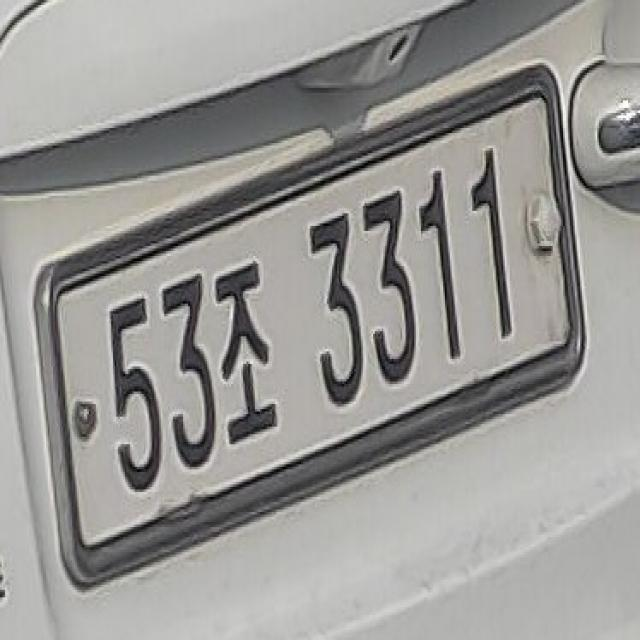1: (467, 126, 529, 352), (418, 153, 467, 369)
3: (308, 183, 366, 409), (361, 171, 416, 394), (161, 258, 214, 482)
5: (99, 263, 168, 502)
jo: (216, 231, 279, 459)
license_plate: (32, 58, 590, 607)
